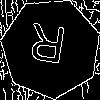R: (26, 23, 68, 73)
